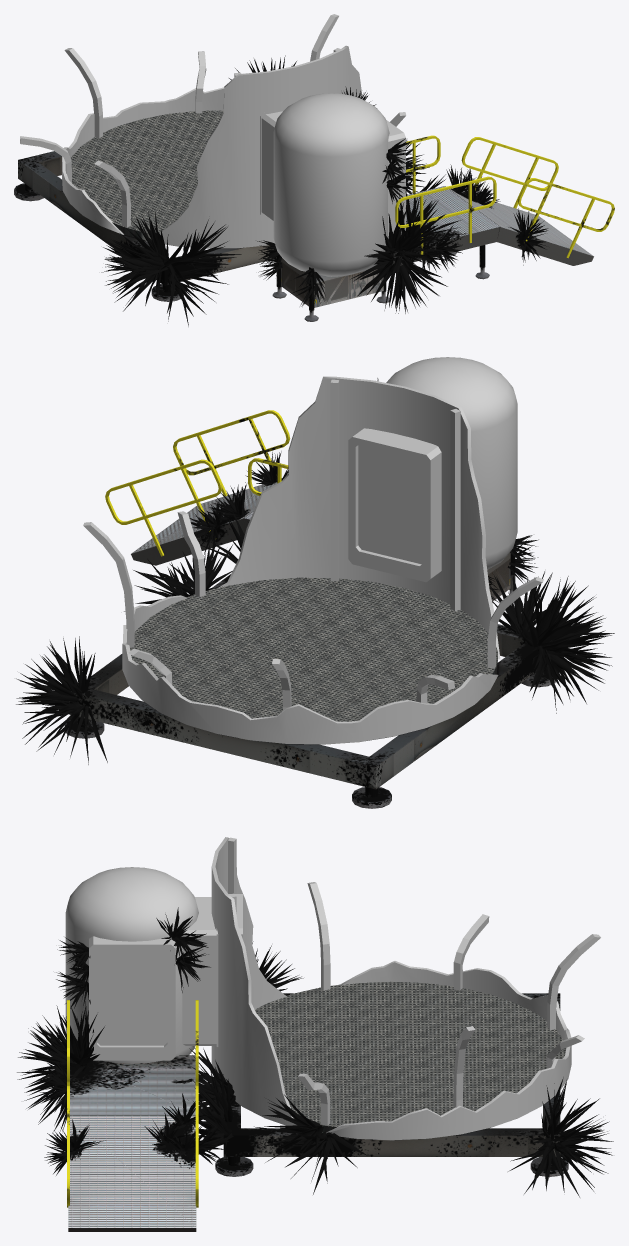
File: HDU_PowerStation_Exploded.fbx
3 views of the same model, one above another, from view 1: azimuth 30°, elevation 25°; view 2: azimuth 150°, elevation 25°; view 3: azimuth 270°, elevation 25° (orthographic). The views are drawn at different scales.
Visible parts, largest first — view 1: HDU_PowerStation_Exploded; view 2: HDU_PowerStation_Exploded; view 3: HDU_PowerStation_Exploded.
Boxes of the visible parts, <box> form: HDU_PowerStation_Exploded: <box>14,14,614,326</box>; HDU_PowerStation_Exploded: <box>16,357,614,808</box>; HDU_PowerStation_Exploded: <box>17,837,613,1231</box>.
Size of the model in its own units: 11.07 by 5.4 by 11.63.
